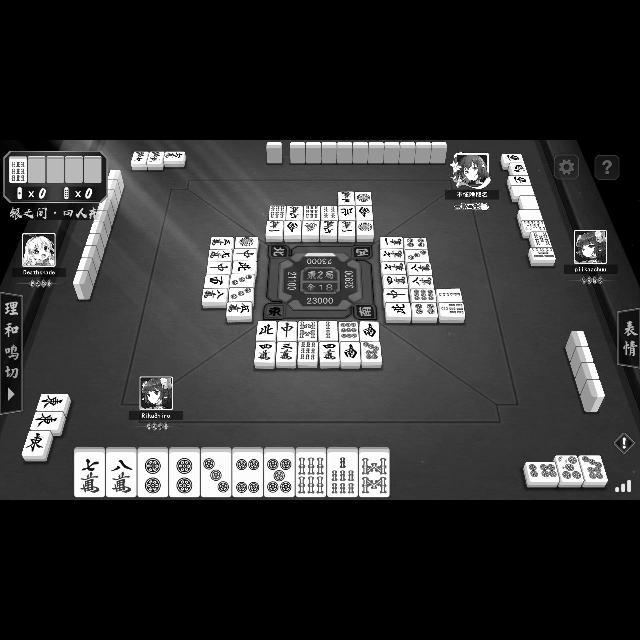1m: (265, 220, 283, 242), (338, 222, 356, 242), (381, 237, 404, 249)
1p: (356, 220, 374, 242), (235, 237, 259, 249), (356, 192, 372, 204)
2p: (168, 447, 202, 498), (137, 448, 169, 498)
2s: (318, 321, 338, 341), (436, 288, 462, 302)
3m: (276, 342, 296, 368), (210, 238, 233, 248), (338, 192, 354, 206)
3p: (202, 447, 232, 497), (230, 288, 254, 302), (230, 274, 256, 286), (405, 250, 429, 262)
4m: (255, 342, 275, 368), (320, 342, 340, 368), (382, 275, 408, 287)
4p: (233, 447, 263, 497), (412, 304, 438, 322), (404, 238, 428, 250)
4s: (320, 206, 338, 220)
5m: (226, 302, 252, 322), (148, 152, 164, 170)
5p: (264, 447, 294, 497), (558, 457, 582, 488)
5s: (528, 248, 556, 266), (528, 232, 552, 246), (519, 220, 547, 232)
6m: (164, 152, 186, 166)
6p: (522, 461, 558, 487)
6s: (296, 447, 328, 497), (268, 206, 286, 220)
7m: (74, 447, 106, 497), (380, 262, 406, 274), (131, 152, 147, 170), (380, 249, 404, 261)
7p: (582, 455, 608, 487), (362, 342, 382, 368)
7s: (328, 448, 358, 497), (439, 303, 465, 323)
8m: (106, 447, 138, 497), (202, 288, 228, 308), (408, 263, 432, 275), (410, 276, 434, 288)
8s: (358, 447, 390, 497), (298, 320, 318, 340)
9m: (320, 220, 338, 242), (207, 250, 233, 262), (286, 206, 304, 220)
9p: (339, 322, 359, 342), (410, 290, 436, 302)
9s: (298, 342, 318, 368), (9, 156, 27, 182), (304, 206, 320, 220)
chun: (278, 322, 296, 341), (384, 288, 408, 302), (206, 262, 232, 274), (234, 250, 256, 260)
haku: (518, 197, 540, 210), (517, 210, 543, 220), (511, 186, 535, 194)
hatsu: (302, 220, 320, 242)
nan: (340, 342, 360, 368), (284, 220, 302, 242), (360, 322, 380, 341), (356, 206, 374, 220)
pe: (385, 303, 411, 323), (256, 321, 276, 341), (233, 260, 257, 274), (338, 206, 356, 220)
sha: (204, 276, 228, 288), (508, 163, 528, 175), (506, 177, 532, 186), (500, 154, 524, 162)
tou: (21, 431, 53, 462), (30, 412, 66, 430), (36, 394, 72, 411)
